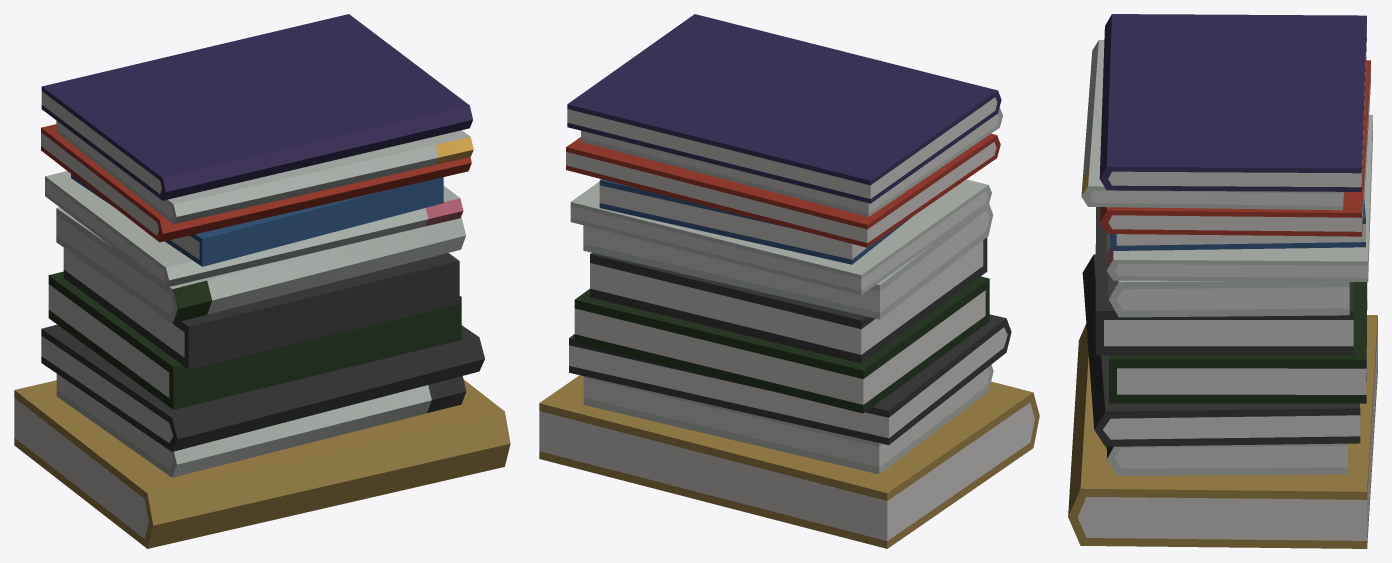
Rendered from SM_Prop_Book_Group_05.glb.
The picture shows the model from 3 angles, left to right: view 1: azimuth 30°, elevation 25°; view 2: azimuth 150°, elevation 25°; view 3: azimuth 270°, elevation 25°; orthographic projection. The views are drawn at different scales.
Visible parts, largest first — view 1: SM_Prop_Book_Group_05; view 2: SM_Prop_Book_Group_05; view 3: SM_Prop_Book_Group_05.
Part boxes in pixels (x1,y1,x2,y2): SM_Prop_Book_Group_05: (14, 14, 510, 548); SM_Prop_Book_Group_05: (539, 14, 1039, 548); SM_Prop_Book_Group_05: (1068, 14, 1377, 548).
Size of the model in its own units: 0.3867 by 0.3684 by 0.2813.
Materials: 1 (1 with a texture image).
